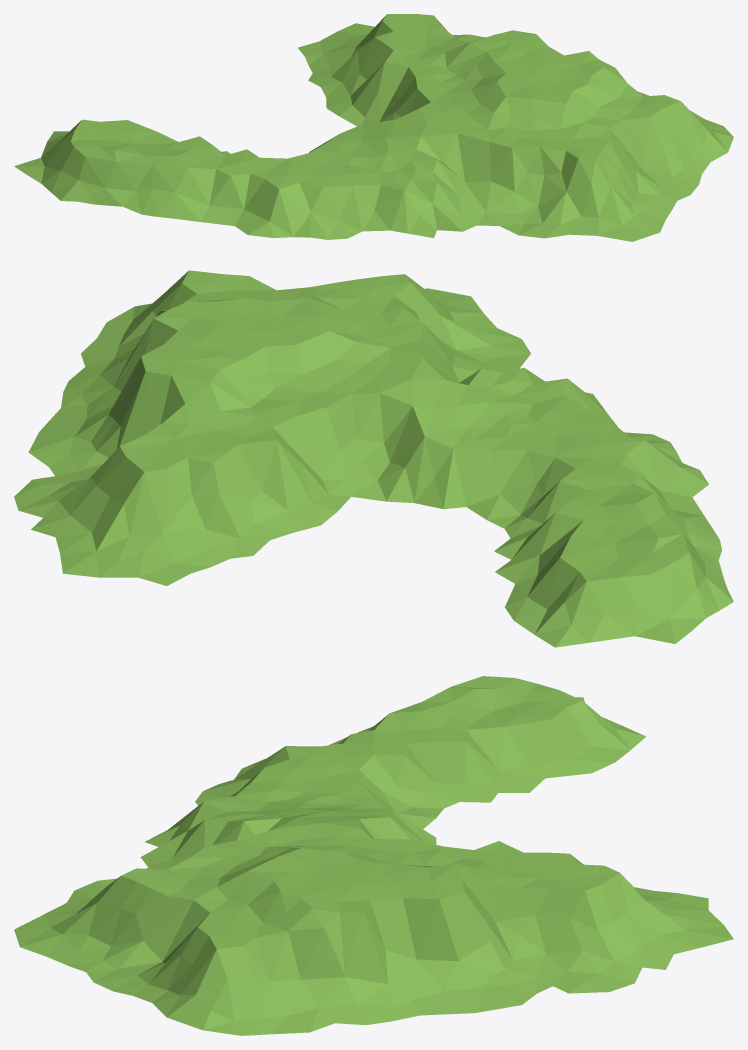
File: MT_Mountain_L_b_10_LOD.fbx
The picture shows the model from 3 angles, top to bottom: view 1: azimuth 30°, elevation 25°; view 2: azimuth 150°, elevation 25°; view 3: azimuth 270°, elevation 25°; orthographic projection. The views are drawn at different scales.
Parts seen in each view (by area): view 1: MT_Mountain_L_b_10_LOD0; view 2: MT_Mountain_L_b_10_LOD0; view 3: MT_Mountain_L_b_10_LOD0.
Part boxes in pixels (box(x1,y1,x2,y2)): MT_Mountain_L_b_10_LOD0: box(14, 14, 733, 241); MT_Mountain_L_b_10_LOD0: box(14, 270, 733, 647); MT_Mountain_L_b_10_LOD0: box(14, 676, 733, 1035).
Size of what is drawn, in the model's own units: 8239 by 889 by 7331.
